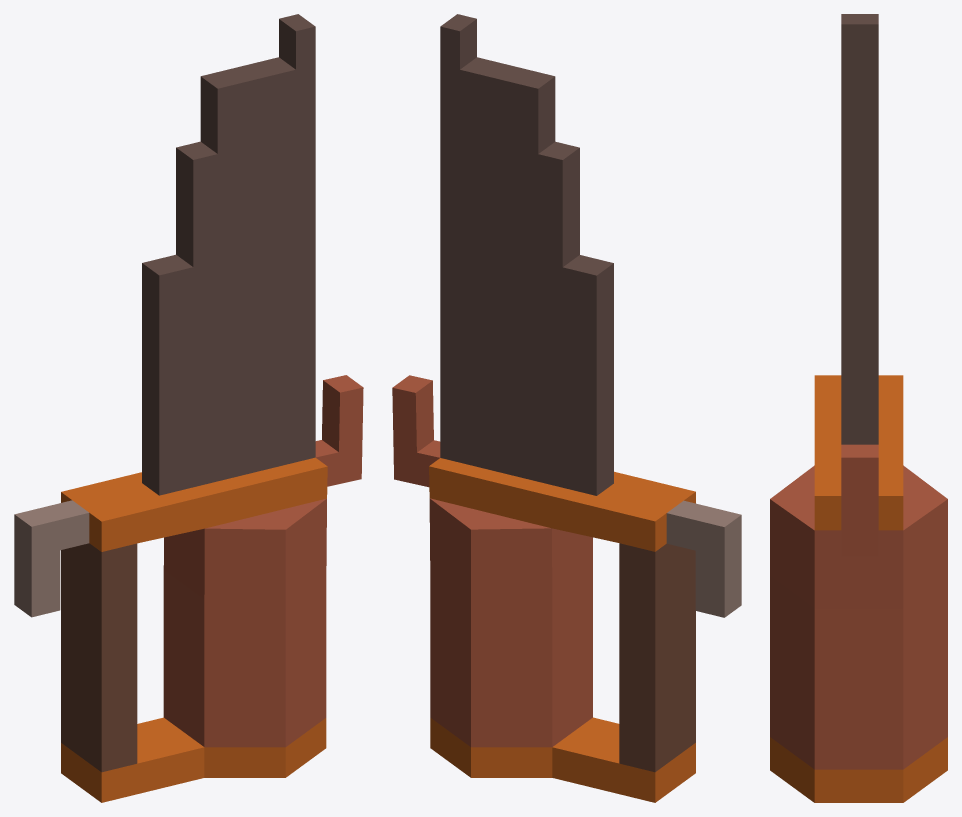
Rendered from ArmaMeledefinitiva.fbx.
3 renders of one model, left to right at view 1: azimuth 30°, elevation 25°; view 2: azimuth 150°, elevation 25°; view 3: azimuth 270°, elevation 25°, orthographic. The views are drawn at different scales.
Visible parts, largest first — view 1: Cylinder; view 2: Cylinder; view 3: Cylinder.
Part boxes in pixels (x1=…): Cylinder: x1=14, y1=14, x2=363, y2=802; Cylinder: x1=392, y1=14, x2=741, y2=802; Cylinder: x1=770, y1=14, x2=947, y2=802.
Bounding box in the file's own units: 283 × 580 × 120.
